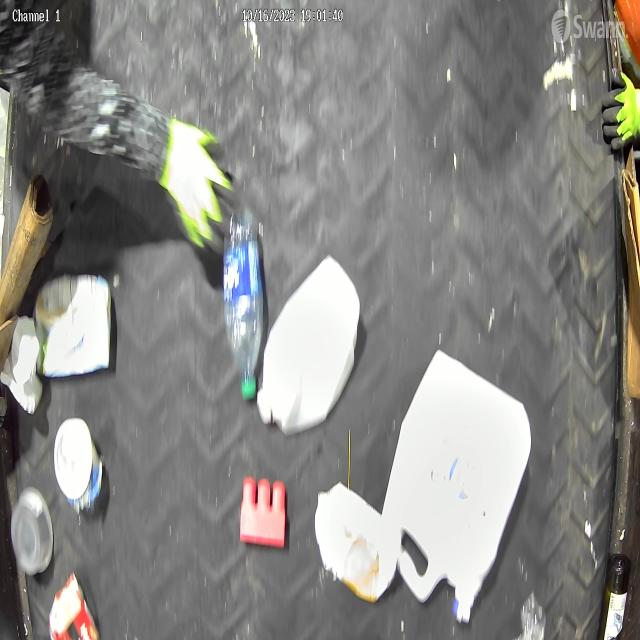can: (54, 418, 104, 509), (48, 572, 100, 640)
milk_jug: (380, 346, 530, 625), (258, 256, 362, 433), (314, 483, 398, 602), (35, 274, 112, 377)
plastic_bottle: (223, 216, 265, 401)
